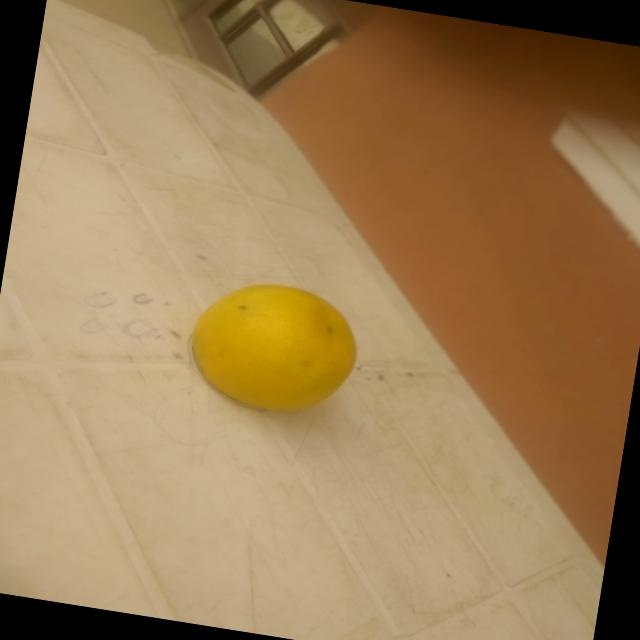agrume: (171, 264, 371, 432)
